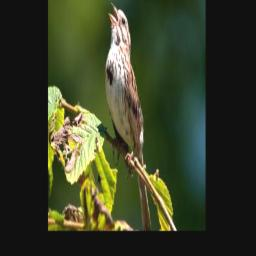Sparrow: (105, 0, 151, 228)
